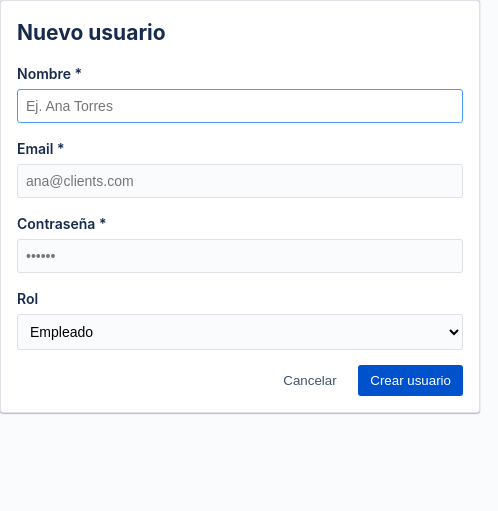
Test: UserForm › valida email, nombre y password antes de enviar
Click the button "Crear usuario": coordinates (411, 380) [358, 365, 463, 396]
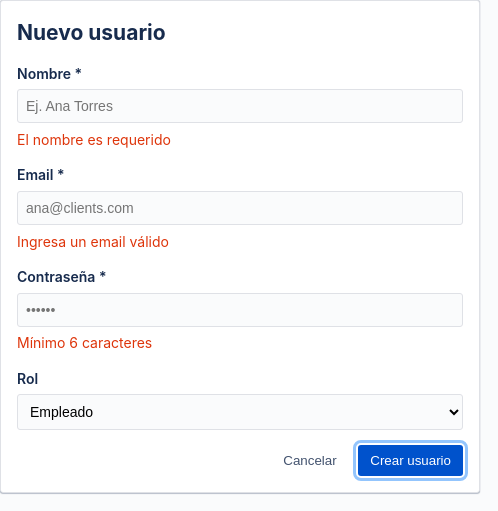
Result: the text "Ingresa un email válido" is shown at [17, 233, 169, 250]
Result: the text "El nombre es requerido" is shown at [17, 131, 171, 148]
